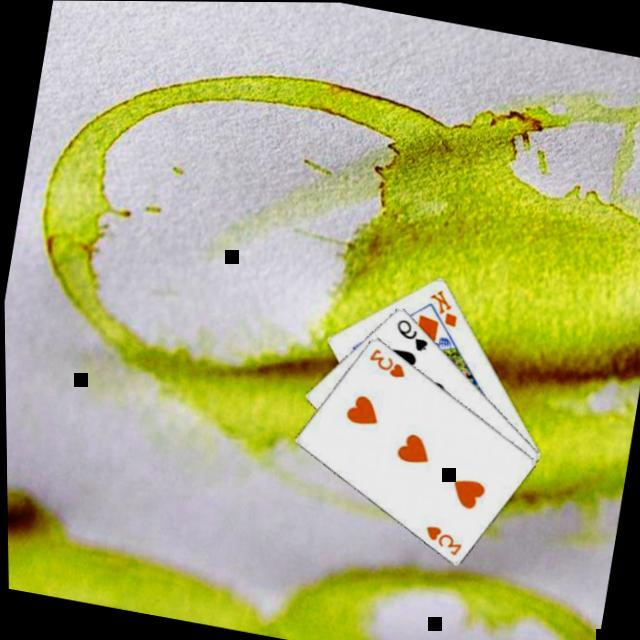3H: (414, 520, 463, 559), (358, 344, 407, 381)
9S: (386, 315, 430, 355)
KD: (419, 284, 462, 330)
